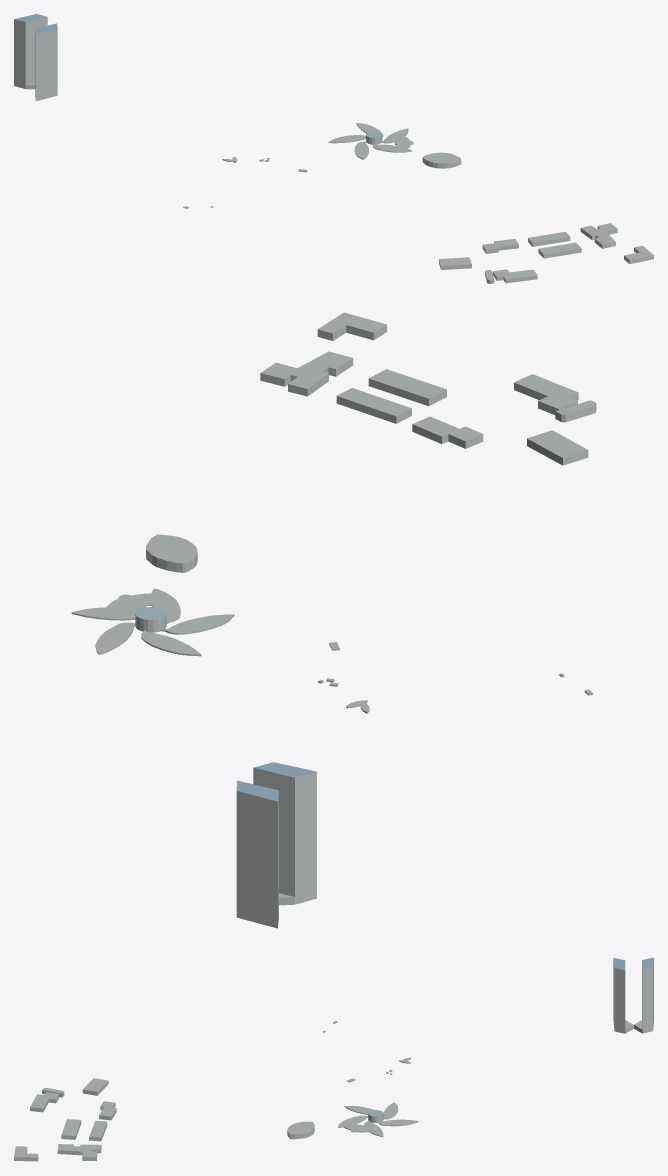
File: far.glb
3 views of the same model, one above another, from view 1: azimuth 30°, elevation 25°; view 2: azimuth 150°, elevation 25°; view 3: azimuth 270°, elevation 25° (orthographic). The views are drawn at different scales.
Size of the model in its own units: 951 by 200 by 1828.
